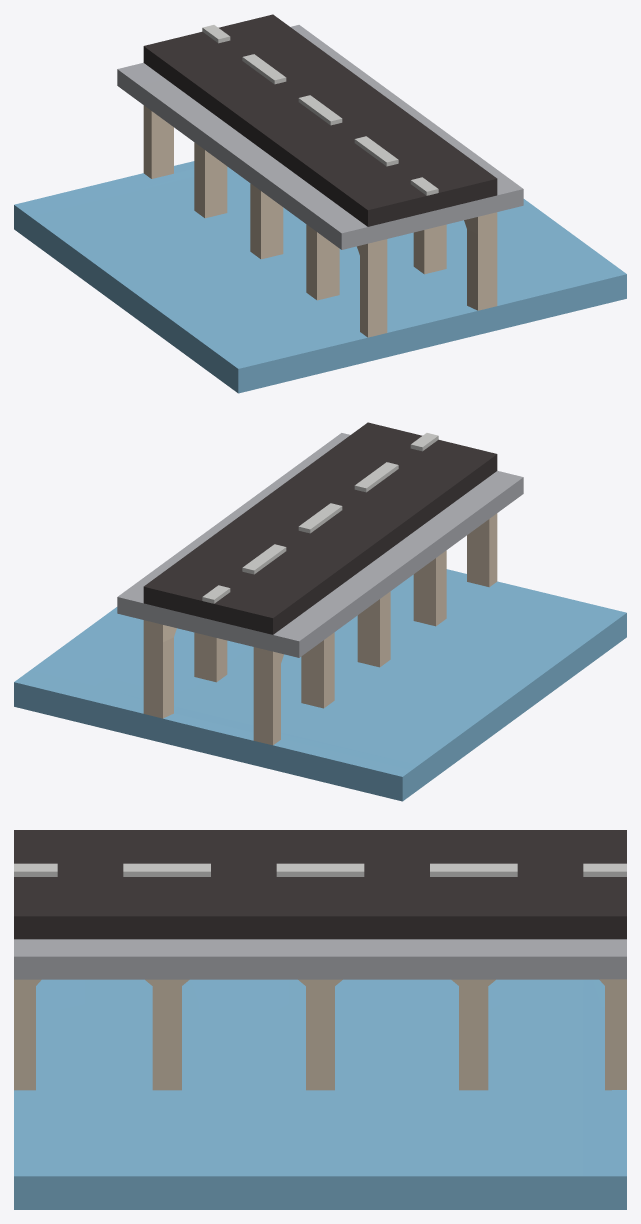
The model's file is Street_Bridge_Water.glb.
3 views of the same model, one above another, from view 1: azimuth 30°, elevation 25°; view 2: azimuth 150°, elevation 25°; view 3: azimuth 270°, elevation 25° (orthographic). The views are drawn at different scales.
Visible parts, largest first — view 1: Street_Bridge_Water.obj; view 2: Street_Bridge_Water.obj; view 3: Street_Bridge_Water.obj.
Part boxes in pixels (x1,y1,x2,y2): Street_Bridge_Water.obj: (14,14,626,393); Street_Bridge_Water.obj: (14,422,626,801); Street_Bridge_Water.obj: (14,830,626,1209).
Bounding box in the file's own units: 2 × 0.7659 × 2.
